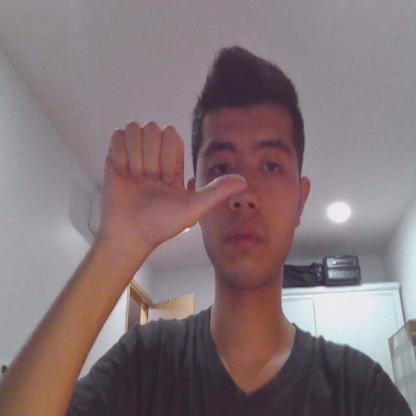left: (102, 121, 247, 252)
